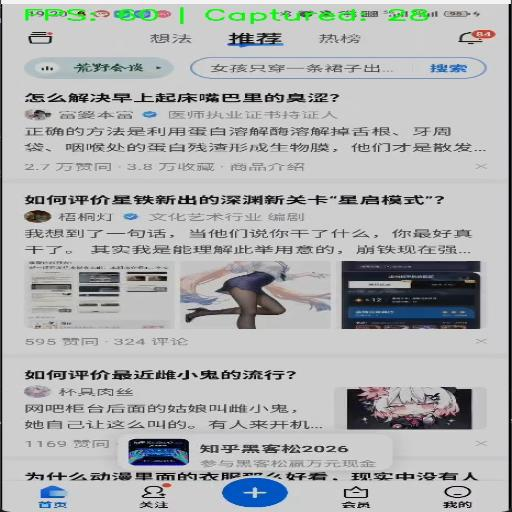butten: (11, 189, 500, 352), (16, 88, 508, 178), (213, 26, 290, 48), (303, 29, 374, 52), (446, 29, 506, 53), (137, 28, 197, 50)
close: (456, 160, 498, 173)
input: (193, 56, 479, 77)
